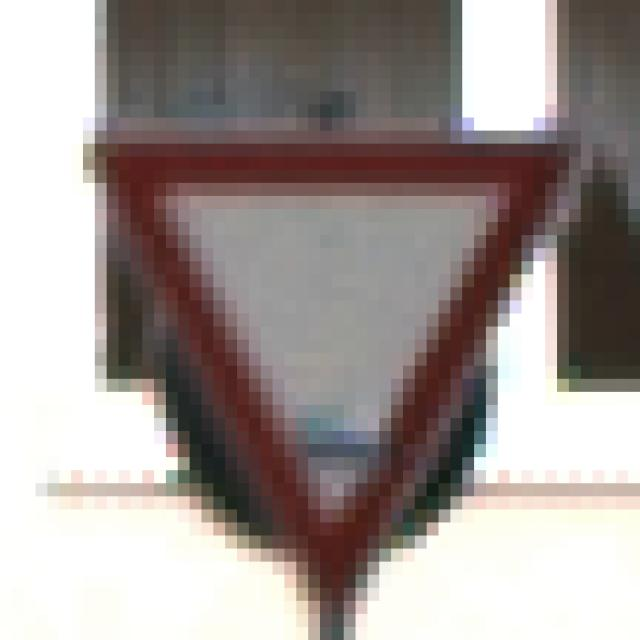Give Way: (72, 79, 582, 576)
